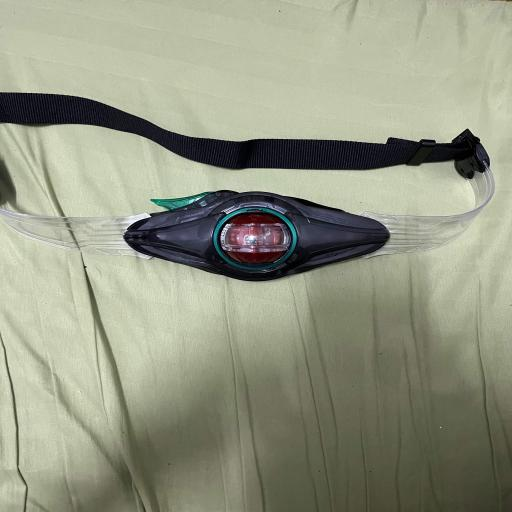zeztzdriver: (0, 93, 494, 281)
